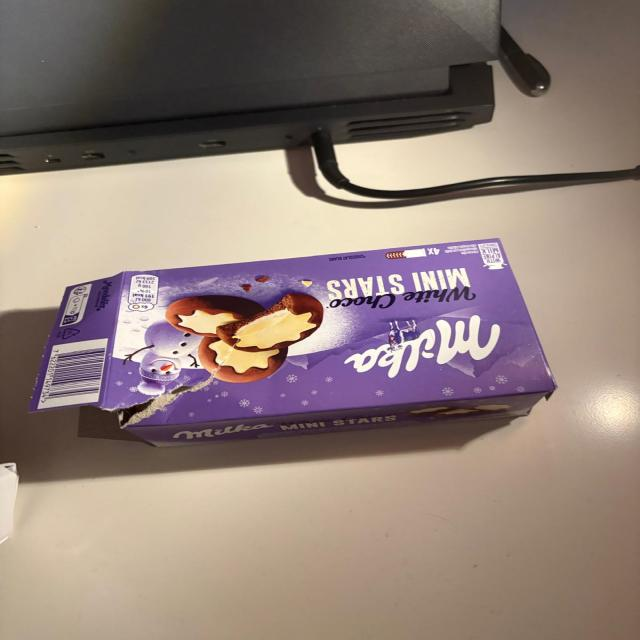damaged_package: (34, 240, 556, 455)
